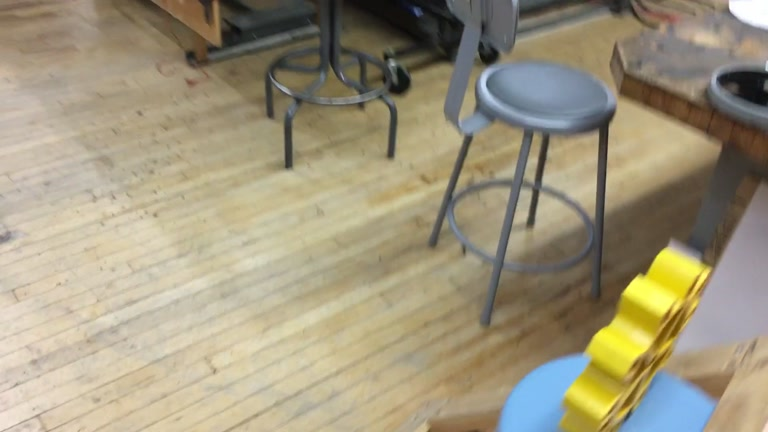gear: (559, 244, 713, 432)
